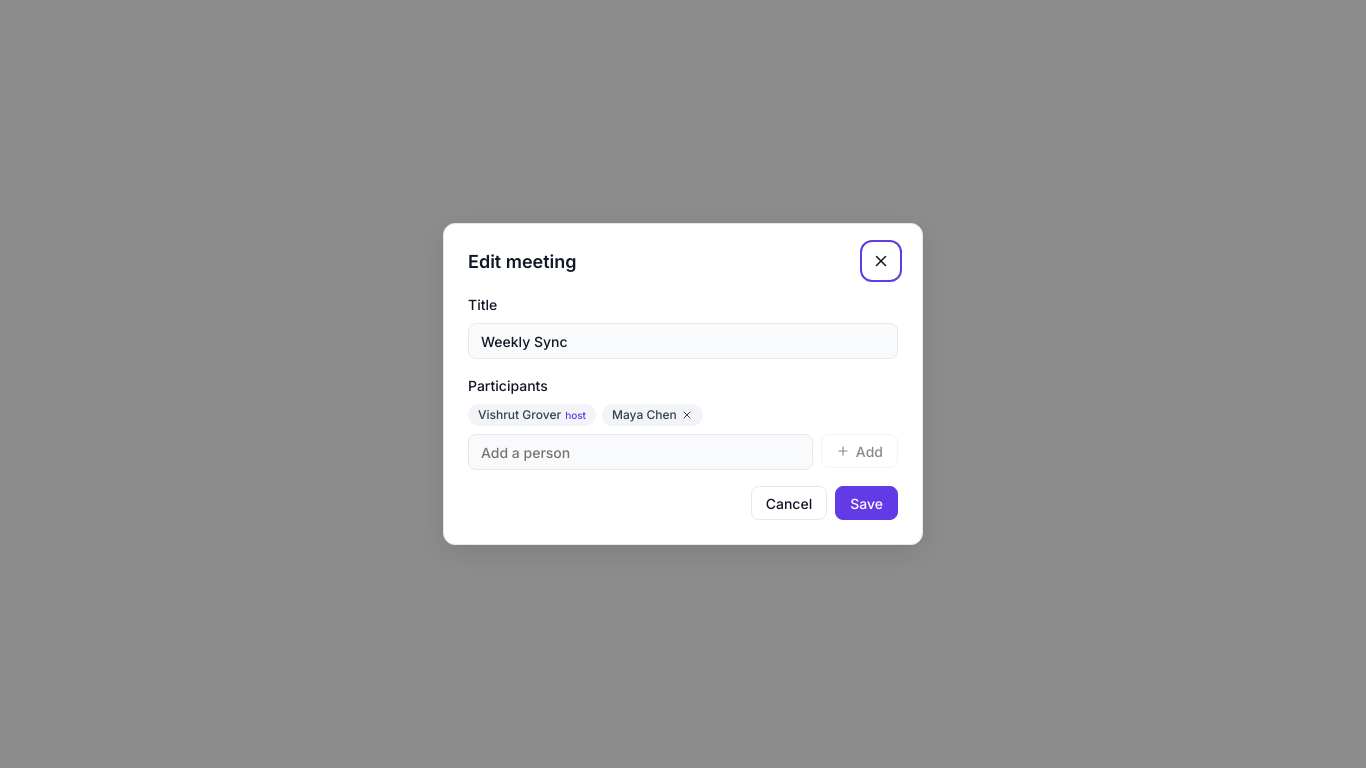
Test: EditMeetingModal › warns that removing someone leaves their lines as Unknown
The image size is (1366, 768).
Expected: the text "stay in the transcript as Unknown" is not shown
Click the button named "Remove Maya Chen": (687, 415) x1=681 y1=409 x2=693 y2=421
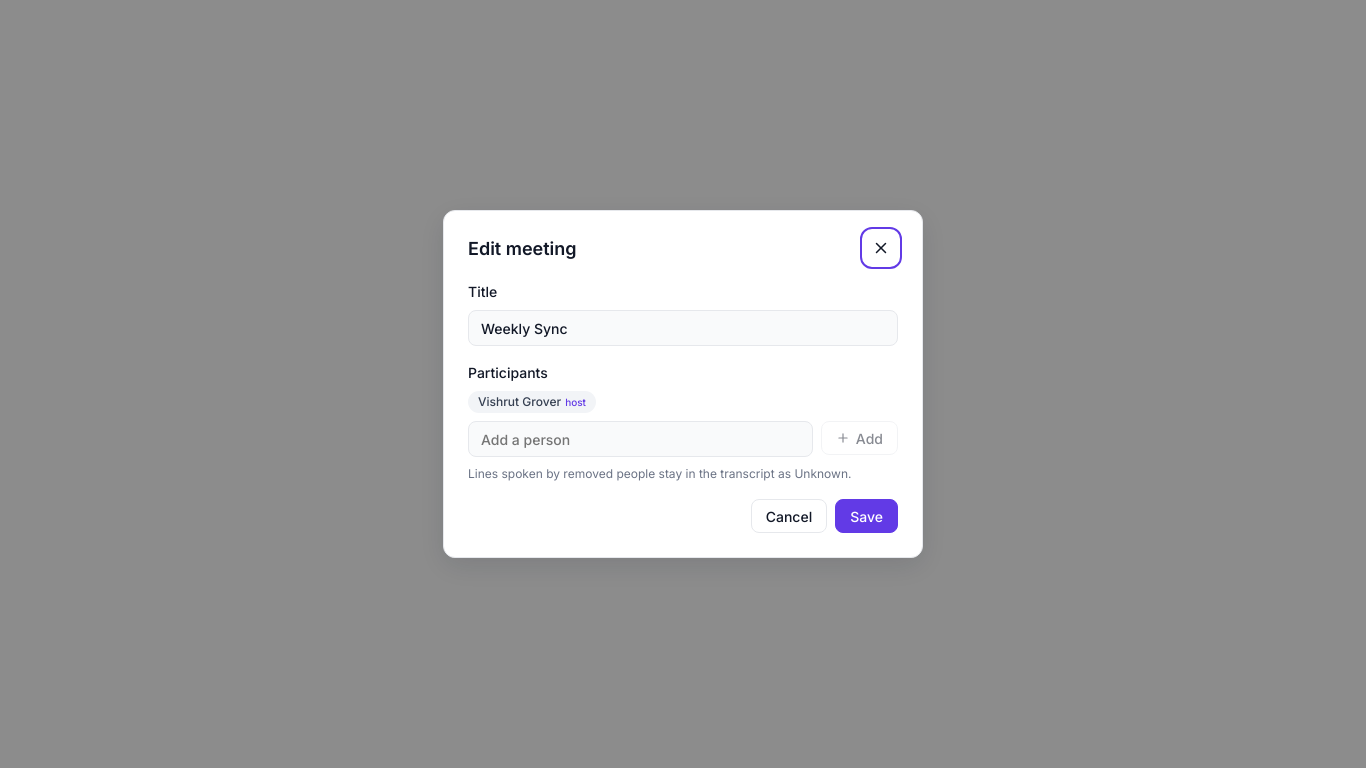
Expected: the text "stay in the transcript as Unknown" is shown, x1=468 y1=466 x2=852 y2=481
